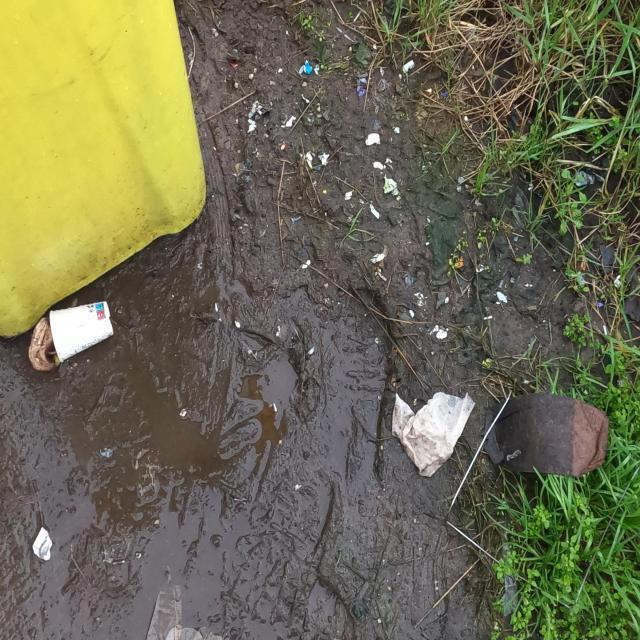Cup: (49, 300, 115, 364)
Paper: (391, 390, 476, 480)
